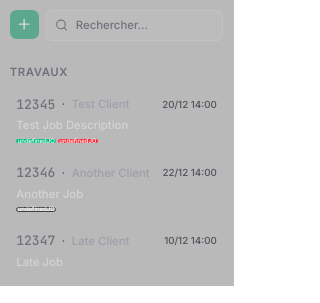
it: JobsList › shows empty state when no jobs match search
Type "nonexistent" into the field with placeholder "Rechercher...".
click(134, 25); type("nonexistent")  # box [46, 10, 223, 41]
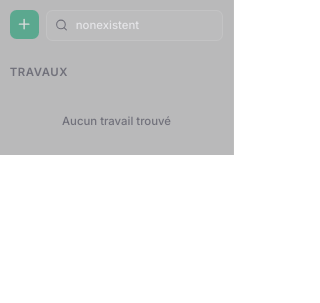
Now the text "Aucun travail trouvé" is shown, box [62, 114, 171, 128]
